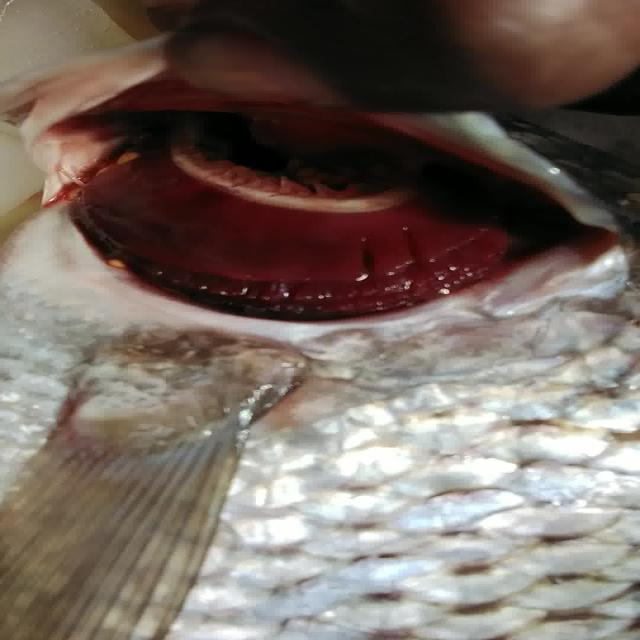Fresh: (2, 129, 606, 346)
